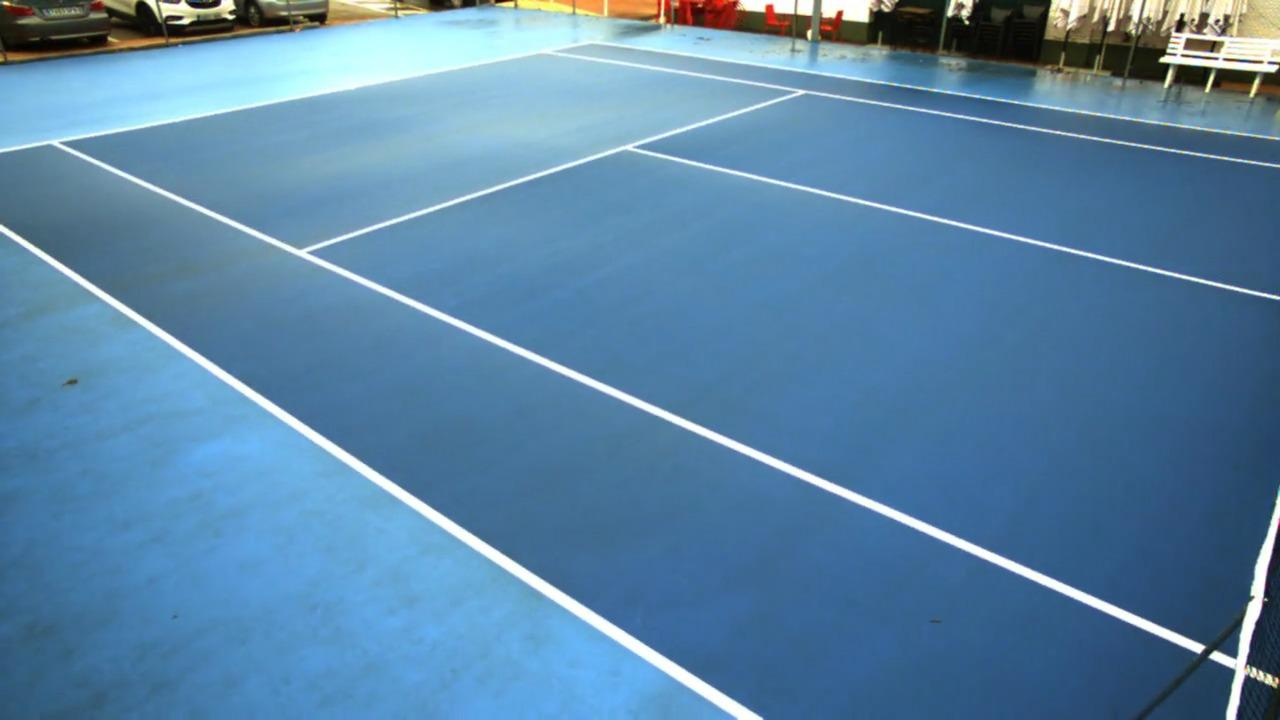cancha_tenis: (54, 52, 1280, 720)
point_f1: (46, 135, 67, 153)
point_f2: (536, 44, 561, 61)
point_fc1: (344, 82, 359, 96)
point_i1: (289, 240, 321, 264)
point_i2: (789, 80, 811, 100)
point_ic1: (616, 135, 642, 159)
